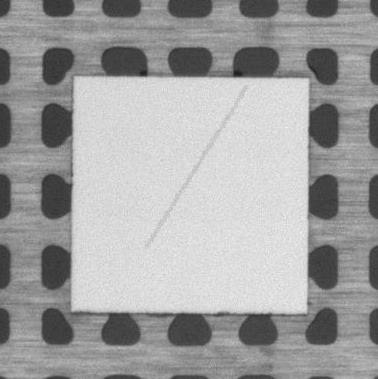DIE_CRACK: (146, 88, 245, 249)
